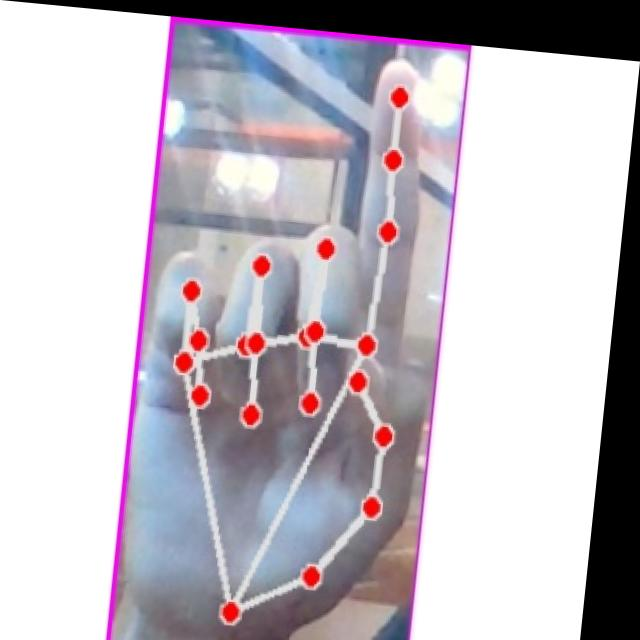D: (133, 26, 456, 640)
